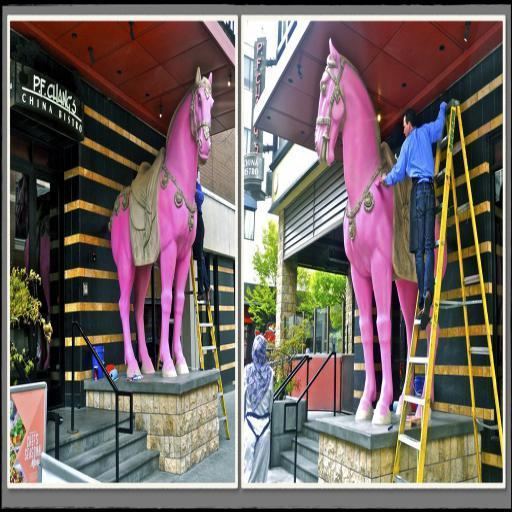horse: (314, 34, 448, 428), (109, 66, 215, 378)
